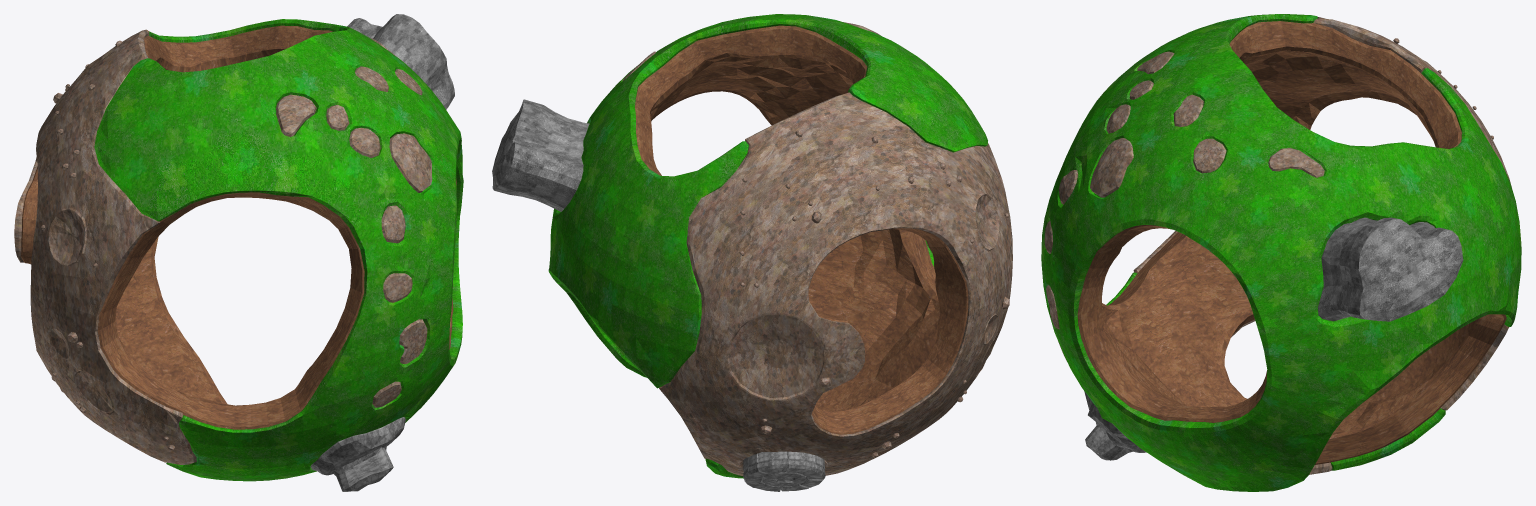
The model's file is holePlanet_newBlend.fbx.
3 views of the same model, side by side, from view 1: azimuth 30°, elevation 25°; view 2: azimuth 150°, elevation 25°; view 3: azimuth 270°, elevation 25° (orthographic). The views are drawn at different scales.
Parts seen in each view (by area): view 1: m2, m1, m0, m3; view 2: m1, m2, m0, m3; view 3: m2, m0, m3, m1.
Part boxes in pixels (x1,y1,x2,y2): m2: (94, 19, 463, 481); m1: (14, 29, 432, 464); m0: (20, 25, 456, 429); m3: (310, 14, 454, 491); m1: (622, 22, 1012, 475); m2: (548, 14, 987, 478); m0: (616, 25, 968, 434); m3: (492, 99, 825, 491); m2: (1041, 14, 1521, 491); m0: (1077, 21, 1506, 464); m3: (1084, 217, 1463, 460); m1: (1044, 17, 1511, 474).
Size of the model in its own units: 2482 by 2261 by 2269.
4 materials, 4 textured.
